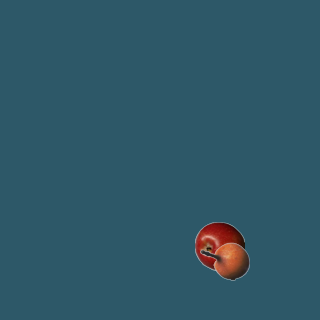Apple Braeburn: (194, 221, 244, 271)
Granadilla: (199, 236, 249, 286)
